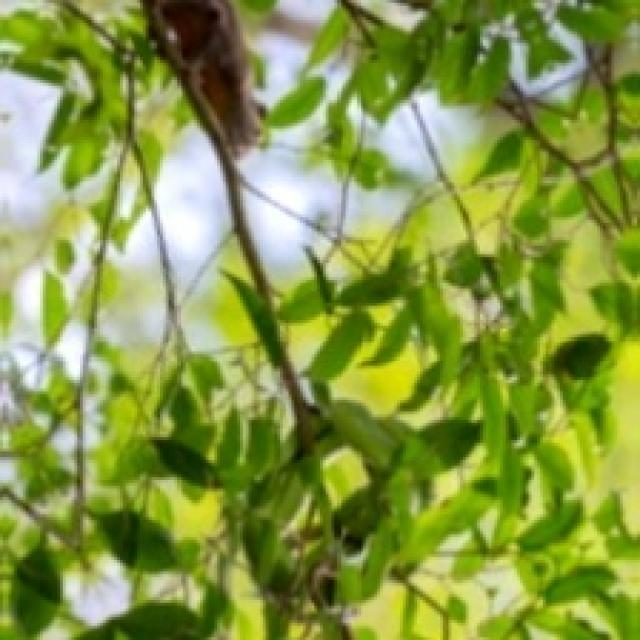red-tailed green ratsnake: (143, 0, 257, 154)
